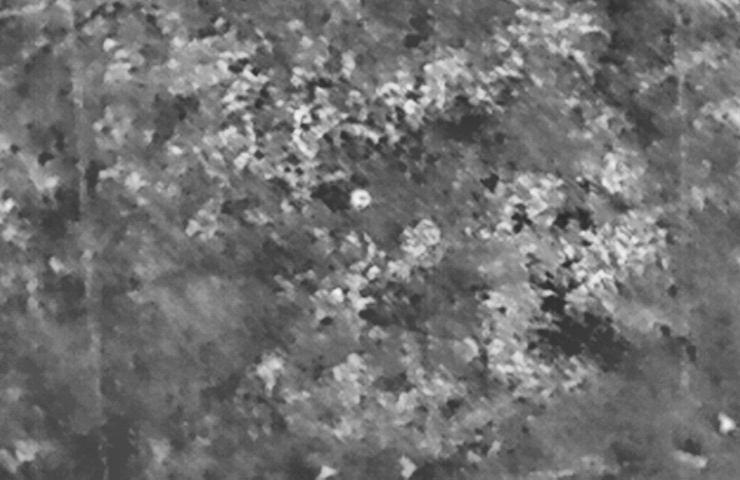landmines: (348, 185, 379, 213)
